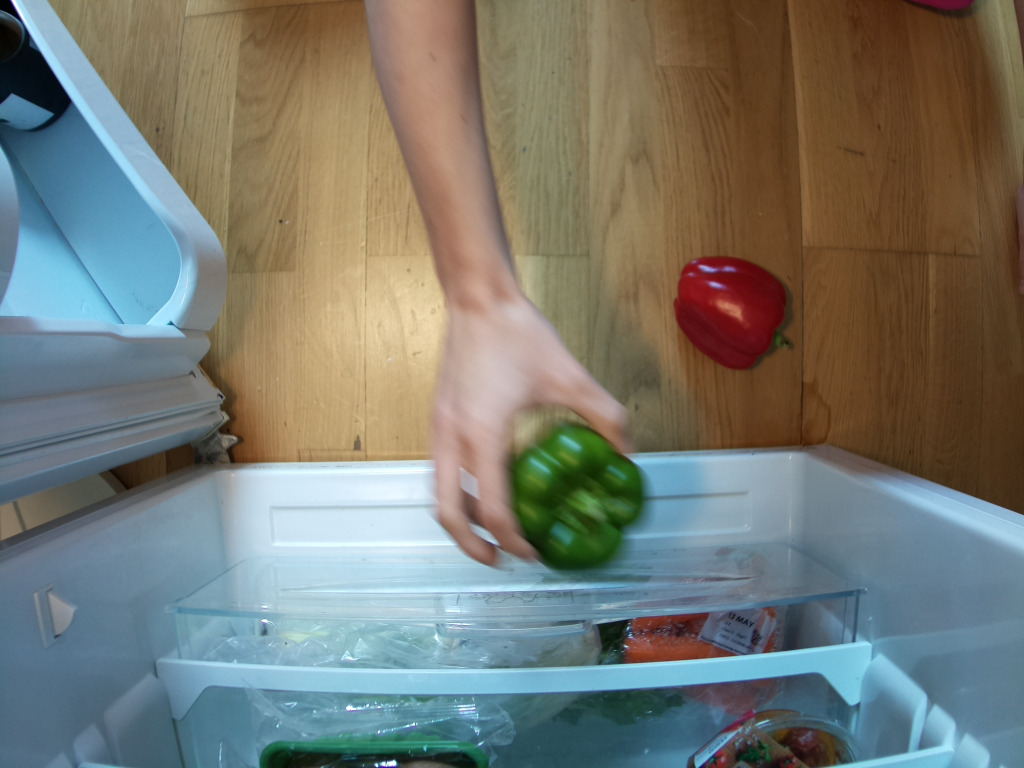pepper: (511, 424, 646, 574), (672, 258, 796, 371)
